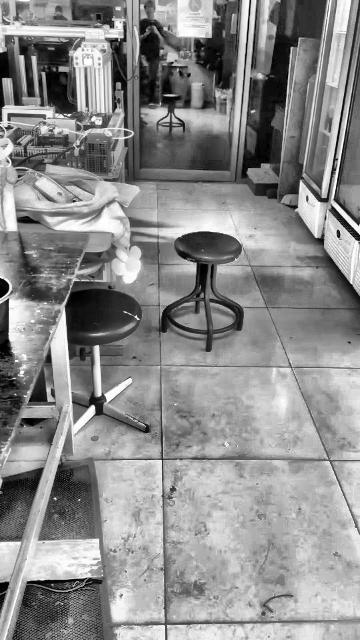pot: (0, 277, 12, 348)
